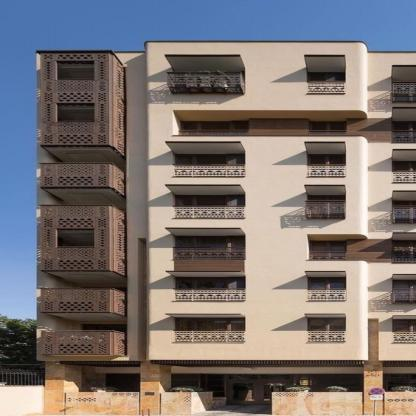Balcony: (37, 246, 114, 272), (39, 163, 114, 189), (37, 205, 114, 230), (40, 330, 114, 355), (37, 79, 113, 103), (40, 288, 114, 312), (37, 121, 114, 144)
Building Outline: (37, 40, 416, 414)
Cornice: (164, 54, 246, 71), (165, 141, 246, 153), (164, 184, 246, 195), (304, 54, 346, 72), (164, 227, 246, 236), (304, 141, 346, 154), (165, 271, 246, 277), (304, 185, 346, 195), (165, 313, 246, 317), (305, 271, 346, 277), (304, 313, 346, 317)
Dont: (369, 387, 386, 416)
Facade: (37, 51, 416, 415)
Floor: (37, 312, 416, 357), (37, 107, 416, 144), (37, 230, 416, 267), (37, 149, 416, 185), (37, 190, 416, 226), (37, 272, 416, 308)
Floor Slab: (37, 267, 416, 272), (37, 308, 416, 312), (37, 226, 416, 230), (37, 185, 416, 189), (37, 144, 416, 148), (37, 357, 416, 361), (37, 103, 416, 107)
Ground Floor: (45, 362, 416, 415)
Pillar: (45, 362, 65, 415), (140, 362, 160, 415), (364, 362, 384, 415)
Top Floor: (37, 51, 416, 103)
Window: (175, 318, 246, 343), (174, 236, 246, 260), (174, 153, 245, 177), (175, 195, 245, 219), (176, 277, 246, 301), (173, 71, 244, 93), (179, 121, 250, 136), (307, 318, 346, 343), (307, 195, 346, 219), (308, 277, 346, 301), (311, 241, 347, 261), (56, 228, 94, 246), (56, 103, 94, 121), (57, 61, 94, 78), (309, 121, 347, 135), (307, 154, 346, 166), (307, 72, 346, 83)
Window Hole: (173, 111, 366, 136), (308, 235, 367, 261)
